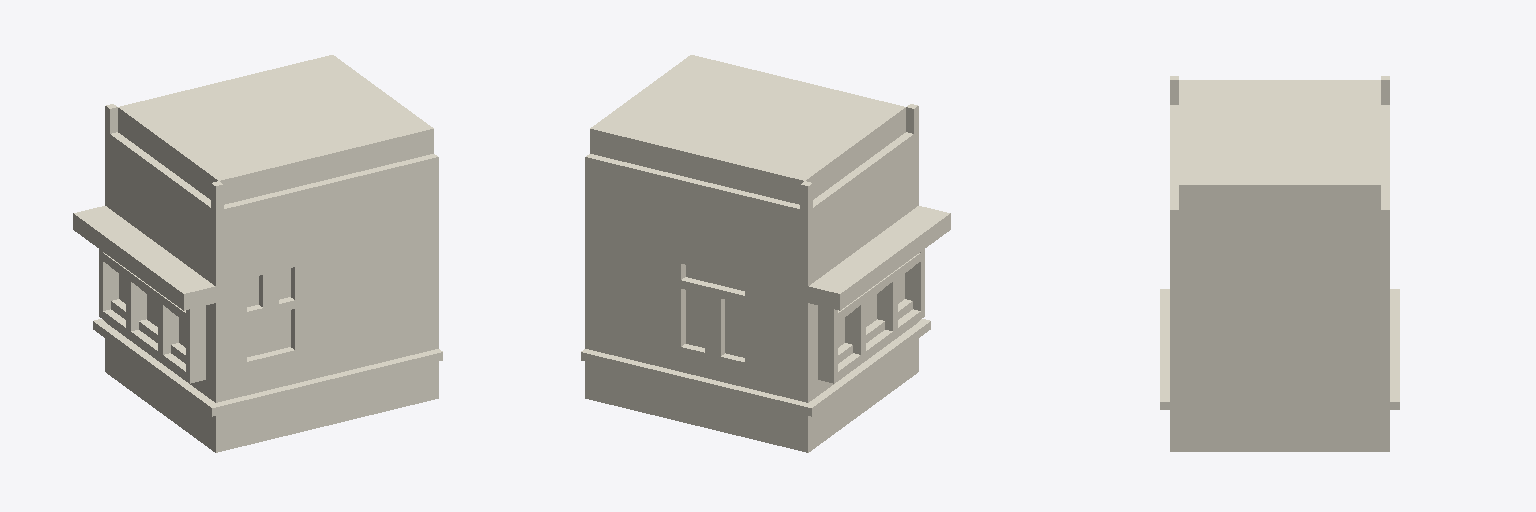
3 views of the same model, side by side, from view 1: azimuth 30°, elevation 25°; view 2: azimuth 150°, elevation 25°; view 3: azimuth 270°, elevation 25° (orthographic).
Parts seen in each view (by area): view 1: object 1; view 2: object 1; view 3: object 1.
Boxes of the visible parts, x1,y1,x2,y2 form: object 1: [73, 55, 442, 452]; object 1: [581, 55, 950, 452]; object 1: [1160, 76, 1399, 451].
Size of the model in its own units: 3.2 by 3.2 by 2.6.
Materials: 1 (1 with a texture image).